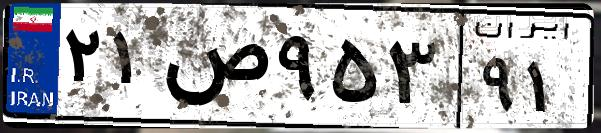1: (525, 38, 570, 115), (110, 28, 158, 98)
2: (57, 26, 110, 100)
3: (385, 28, 445, 110)
5: (330, 28, 385, 110)
9: (270, 28, 330, 110), (475, 38, 525, 113)
ص: (158, 20, 270, 120)
